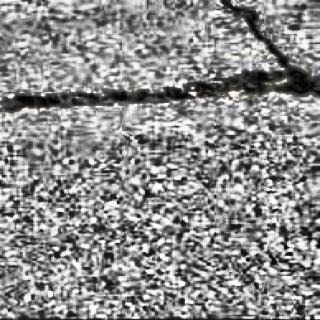crack: (2, 12, 318, 113)
